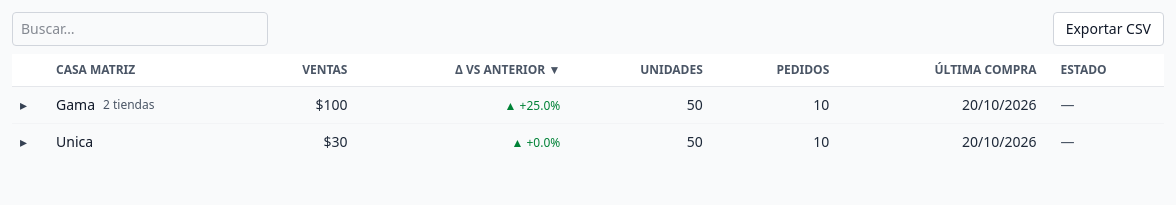
Scenario: TrajectoryTable › with renderEvolution › opening a one-store chain shows only its evolution
Click the button named "Expandir": point(24, 142) x1=16 y1=132 x2=31 y2=152
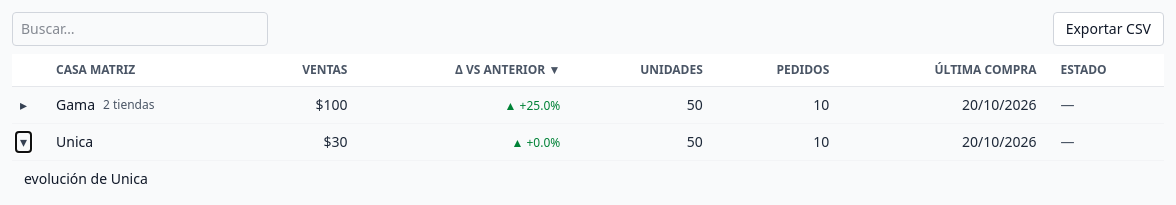
Result: the text "evolución de Unica" is shown at x1=24 y1=169 x2=148 y2=188
